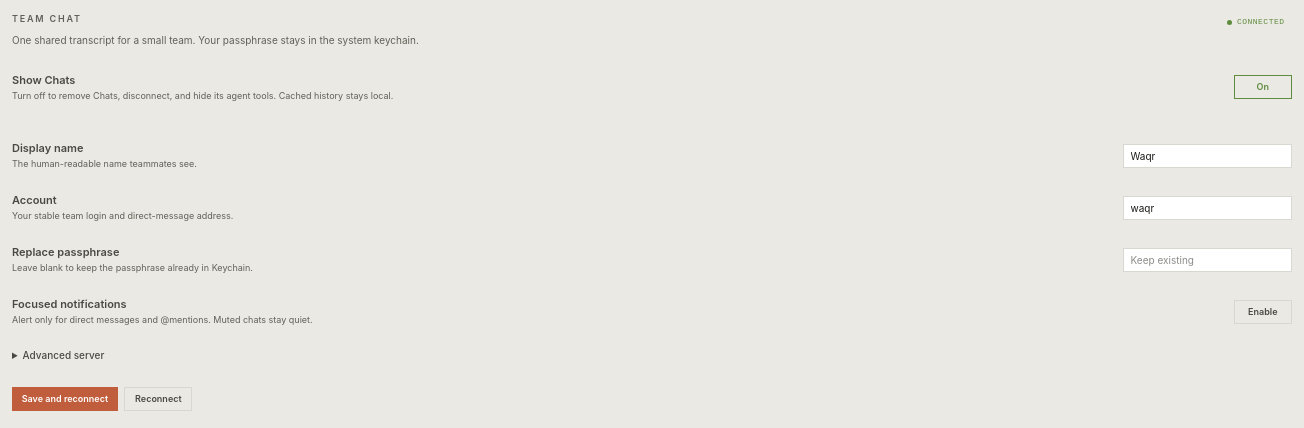
ChatSettingsSection › keeps the re-enable control visible while hiding Chat settings
The image size is (1304, 428).
What coordinates should you click on to do the following:
click the button "On"
I would click on:
 (1263, 87)
Its box is 1234,75 -> 1292,99.
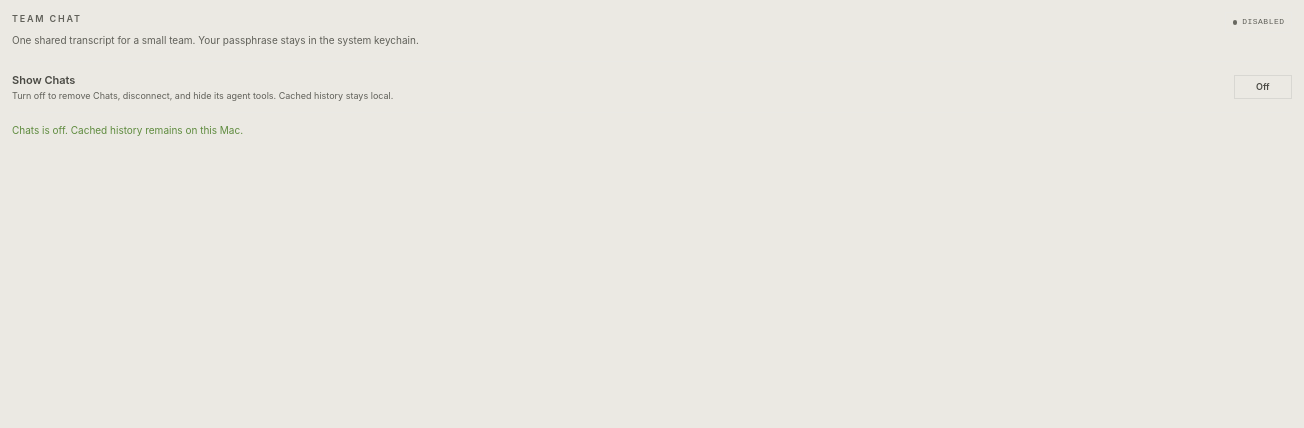
Expected: the button "Off" is shown, 1234,75 -> 1292,99
Expected: the text "Cached history remains on this Mac." is shown, 12,124 -> 243,136
